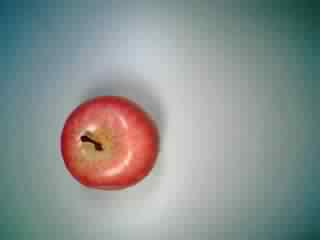apple: (56, 91, 162, 195)
